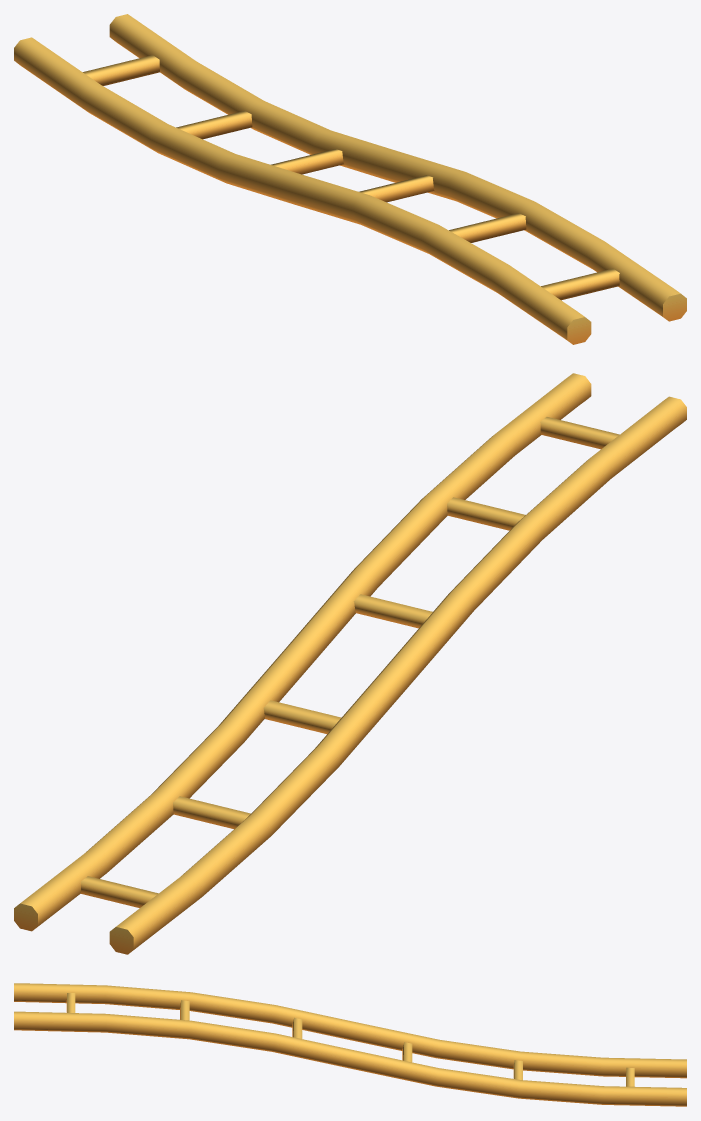
The model's file is coaster-mouse-straight-hill-complete-half.glb.
3 renders of one model, top to bottom at view 1: azimuth 30°, elevation 25°; view 2: azimuth 150°, elevation 25°; view 3: azimuth 270°, elevation 25°, orthographic. The views are drawn at different scales.
Parts seen in each view (by area): view 1: coaster-mouse-straight-hill-complete-half; view 2: coaster-mouse-straight-hill-complete-half; view 3: coaster-mouse-straight-hill-complete-half.
Part boxes in pixels (box(x1,y1,x2,y2)): coaster-mouse-straight-hill-complete-half: box(14, 14, 686, 344); coaster-mouse-straight-hill-complete-half: box(14, 373, 686, 954); coaster-mouse-straight-hill-complete-half: box(14, 983, 686, 1106).
Size of the model in its own units: 0.5 by 0.6001 by 4.
Materials: 1 (1 with a texture image).
